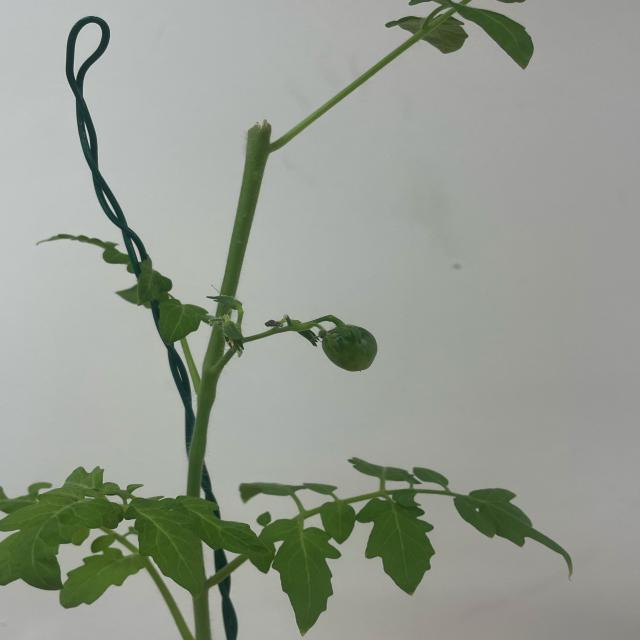level 1: (307, 324, 389, 379)
